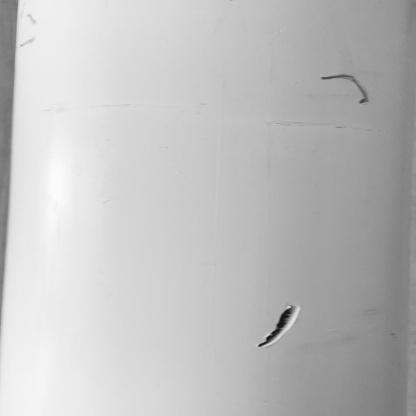fengxi: (317, 63, 374, 104)
kongdong: (262, 300, 305, 348)
